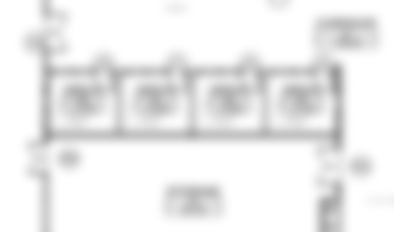door: (92, 70, 118, 94), (239, 69, 263, 95), (166, 69, 189, 96), (313, 69, 334, 95)
double door: (315, 146, 344, 187), (41, 13, 70, 53), (25, 141, 50, 177)
window: (41, 87, 52, 114)
